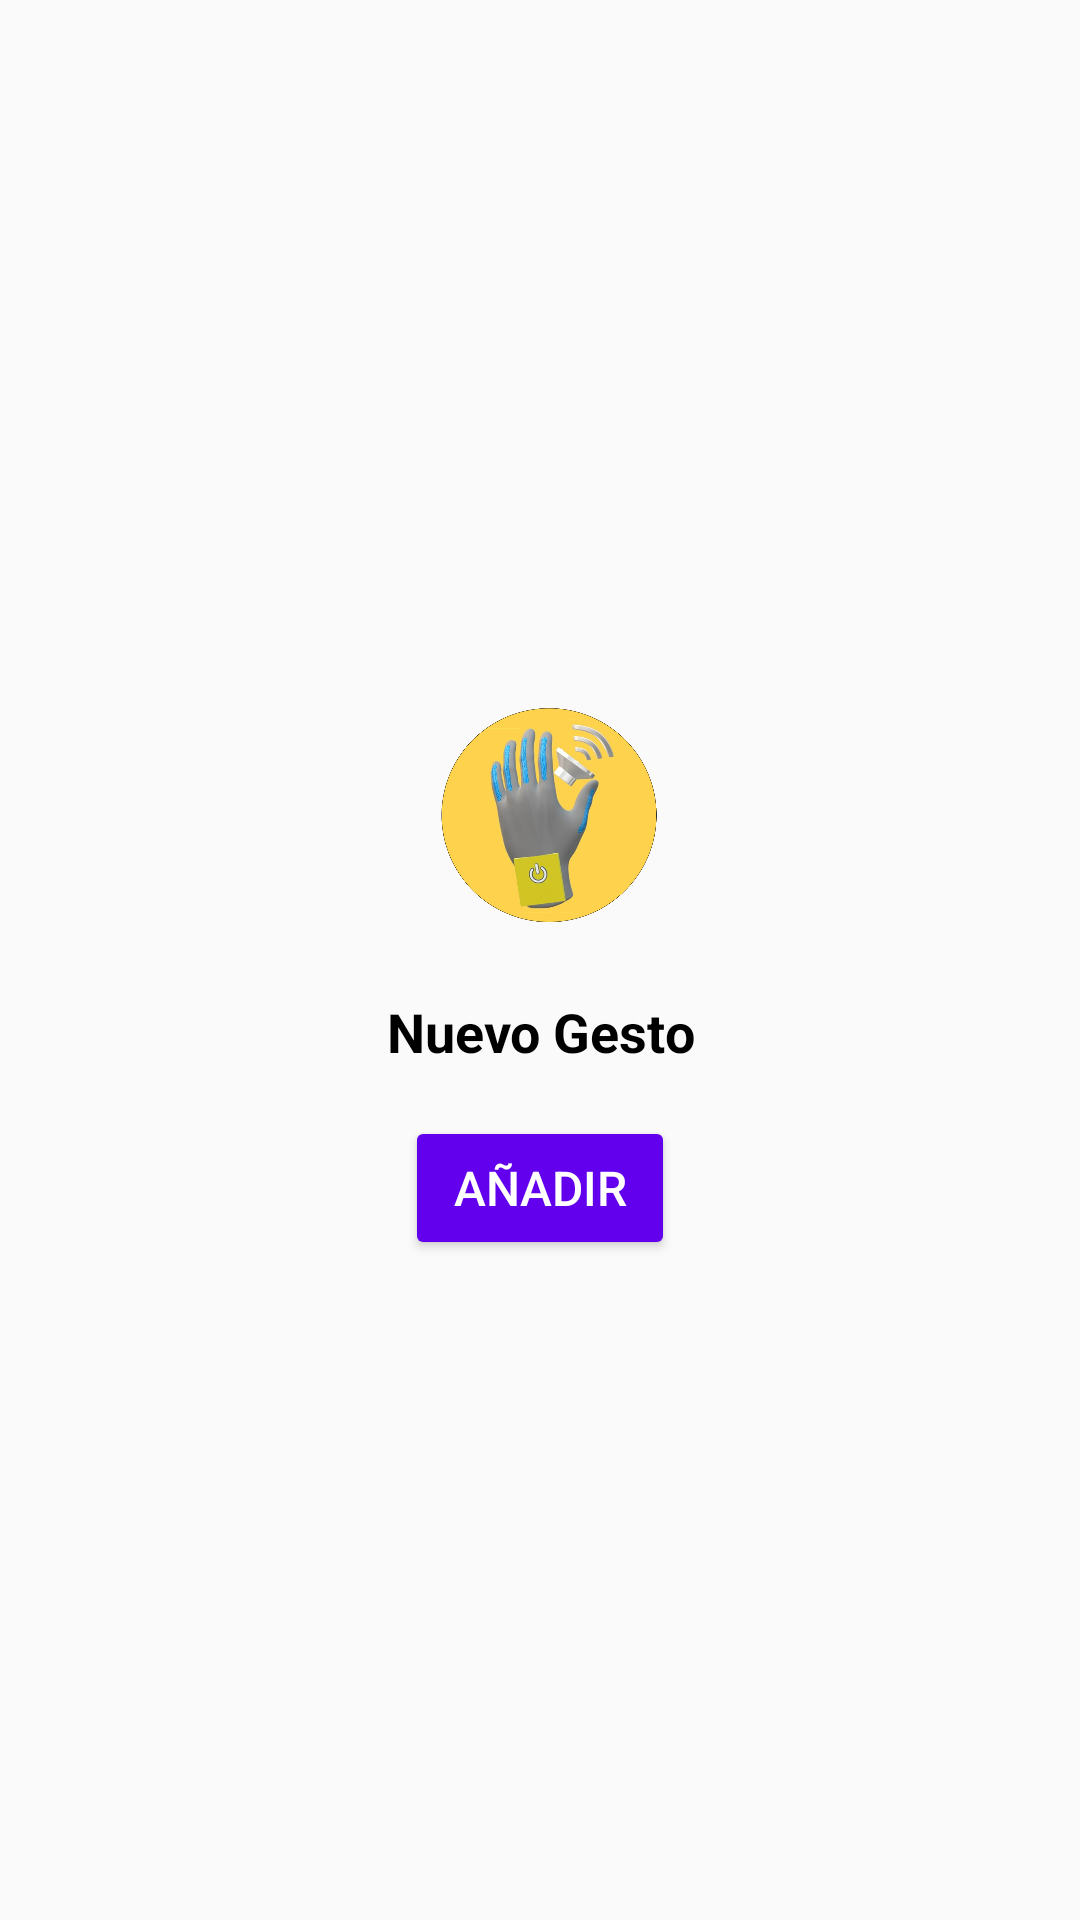

Where to tap for icons on this 1080 × 1920 app screen, as (x,y):
guante: (549,815)
